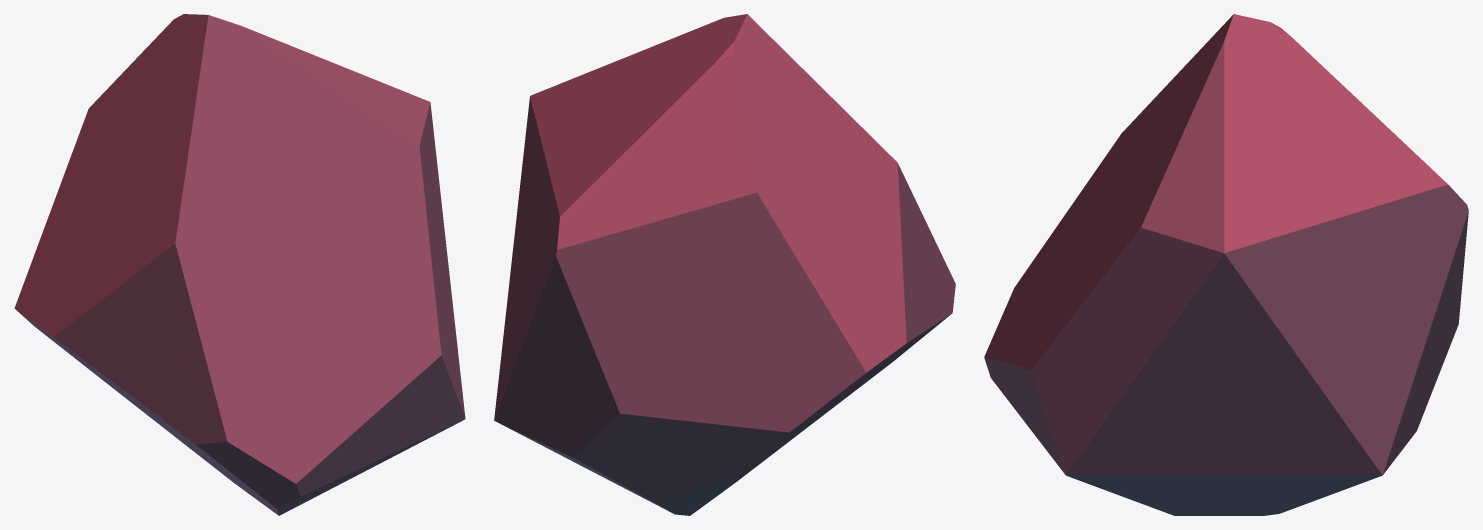
File: geology-crystals-gemstone_v3.glb
The picture shows the model from 3 angles, left to right: view 1: azimuth 30°, elevation 25°; view 2: azimuth 150°, elevation 25°; view 3: azimuth 270°, elevation 25°; orthographic projection. The views are drawn at different scales.
Parts seen in each view (by area): view 1: gemstone_v3; view 2: gemstone_v3; view 3: gemstone_v3.
Part boxes in pixels (x1,y1,x2,y2): gemstone_v3: (14,14,465,515); gemstone_v3: (494,14,955,515); gemstone_v3: (984,14,1468,515).
Bounding box in the file's own units: 14.9 × 18.71 × 17.03.
